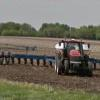Tractor: (44, 31, 100, 84)
